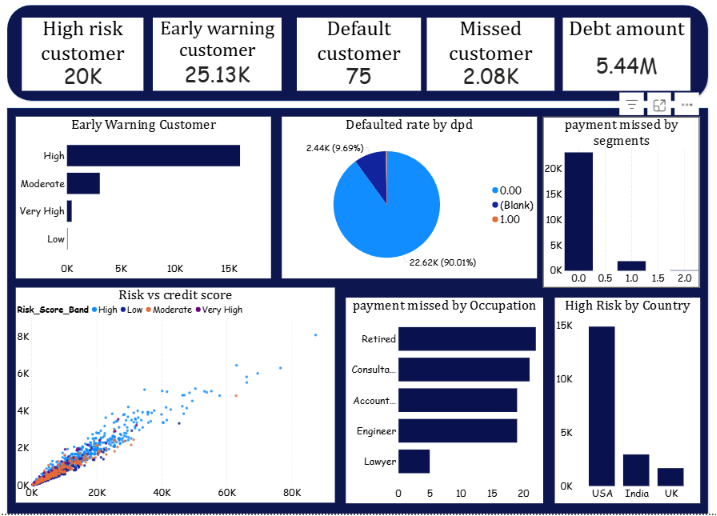

Layout of this report page (visuals, bound fields, positions):
{"tool":"powerbi","page":{"name":"Page 4Early-Warning & Risk Monitoring","canvas":[2800,2000],"ordinal":3},"visuals":[{"type":"shape","box":[31.8,36.4,2713.6,386.4],"z":3008},{"type":"shape","box":[31.8,431.8,2713.6,1968.2],"z":3009},{"type":"card","title":"High risk customer","fields":{"Values":["Sum(fintech_banking_analytics banking_data.High_Risk_Indicator)"]},"box":[95.5,90.9,468.2,281.8],"z":3011},{"type":"card","title":"Early warning customer","fields":{"Values":["CountNonNull(fintech_banking_analytics banking_data.Early_Warning_Flag)"]},"box":[600,90.9,495.5,281.8],"z":3012},{"type":"card","title":"Default customer","fields":{"Values":["fintech_banking_analytics banking_data.Defalut flag"]},"box":[1154.5,90.9,477.3,281.8],"z":3013},{"type":"card","title":"Missed customer","fields":{"Values":["Sum(fintech_banking_analytics banking_data.Missed_Payment_Count)"]},"box":[1654.5,90.9,490.9,281.8],"z":3014},{"type":"card","title":"Debt amount","fields":{"Values":["Sum(fintech_banking_analytics banking_data.Debt_to_Income_Ratio)"]},"box":[2177.3,90.9,490.9,281.8],"z":3015},{"type":"clusteredBarChart","title":"Early Warning Customer","fields":{"Category":["fintech_banking_analytics banking_data.Risk_Score_Band"],"Y":["Sum(fintech_banking_analytics banking_data.Early_Warning_Flag)"]},"box":[72.7,472.7,981.8,622.7],"z":3016},{"type":"clusteredColumnChart","title":"High Risk by Country","fields":{"Category":["fintech_banking_analytics banking_data.Country"],"Y":["Sum(fintech_banking_analytics banking_data.Early_Warning_Flag)"]},"box":[2145.5,1168.2,559.1,790.9],"z":3017},{"type":"scatterChart","title":"Risk vs credit score","fields":{"Category":["fintech_banking_analytics banking_data.Credit_Score_Change"],"X":["Sum(fintech_banking_analytics banking_data.Credit_Score)"],"Y":["Sum(fintech_banking_analytics banking_data.Risk_Score)"],"Series":["fintech_banking_analytics banking_data.Risk_Score_Band"]},"box":[72.7,1131.8,1227.3,827.3],"z":3018},{"type":"columnChart","title":"payment missed by segments","fields":{"Category":["fintech_banking_analytics banking_data.Missed_Payment_Count"],"Y":["CountNonNull(fintech_banking_analytics banking_data.Customer_Segment)"]},"box":[2100,472.7,604.5,659.1],"z":3019},{"type":"pieChart","title":"Defaulted rate by dpd","fields":{"Category":["fintech_banking_analytics banking_data.Default_Flag"],"Y":["CountNonNull(fintech_banking_analytics banking_data.DPD_Risk_Band)"]},"box":[1095.5,472.7,981.8,622.7],"z":3020},{"type":"clusteredBarChart","title":"payment missed by  Occupation","fields":{"Category":["fintech_banking_analytics banking_data.Occupation"],"Y":["Sum(fintech_banking_analytics banking_data.Missed_Payment_Flag)"]},"box":[1340.9,1168.2,759.1,790.9],"z":3021}]}

Visuals, with their boxes in screenshot pixels (x1, y1, x2, y2), scaled from the page's 2800x2000 canvas onto the 717x516 screenshot:
shape: (left=8, top=9, right=703, bottom=109)
shape: (left=8, top=111, right=703, bottom=515)
"High risk customer" card: (left=24, top=23, right=144, bottom=96)
"Early warning customer" card: (left=154, top=23, right=281, bottom=96)
"Default customer" card: (left=296, top=23, right=418, bottom=96)
"Missed customer" card: (left=424, top=23, right=549, bottom=96)
"Debt amount" card: (left=558, top=23, right=683, bottom=96)
"Early Warning Customer" clusteredBarChart: (left=19, top=122, right=270, bottom=283)
"High Risk by Country" clusteredColumnChart: (left=549, top=301, right=693, bottom=505)
"Risk vs credit score" scatterChart: (left=19, top=292, right=333, bottom=505)
"payment missed by segments" columnChart: (left=538, top=122, right=693, bottom=292)
"Defaulted rate by dpd" pieChart: (left=281, top=122, right=532, bottom=283)
"payment missed by  Occupation" clusteredBarChart: (left=343, top=301, right=538, bottom=505)
